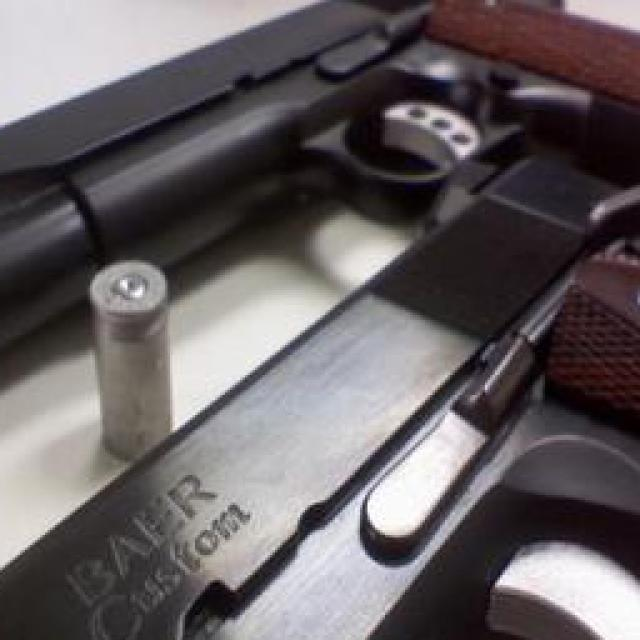pistol: (0, 152, 640, 640), (0, 0, 640, 372)
